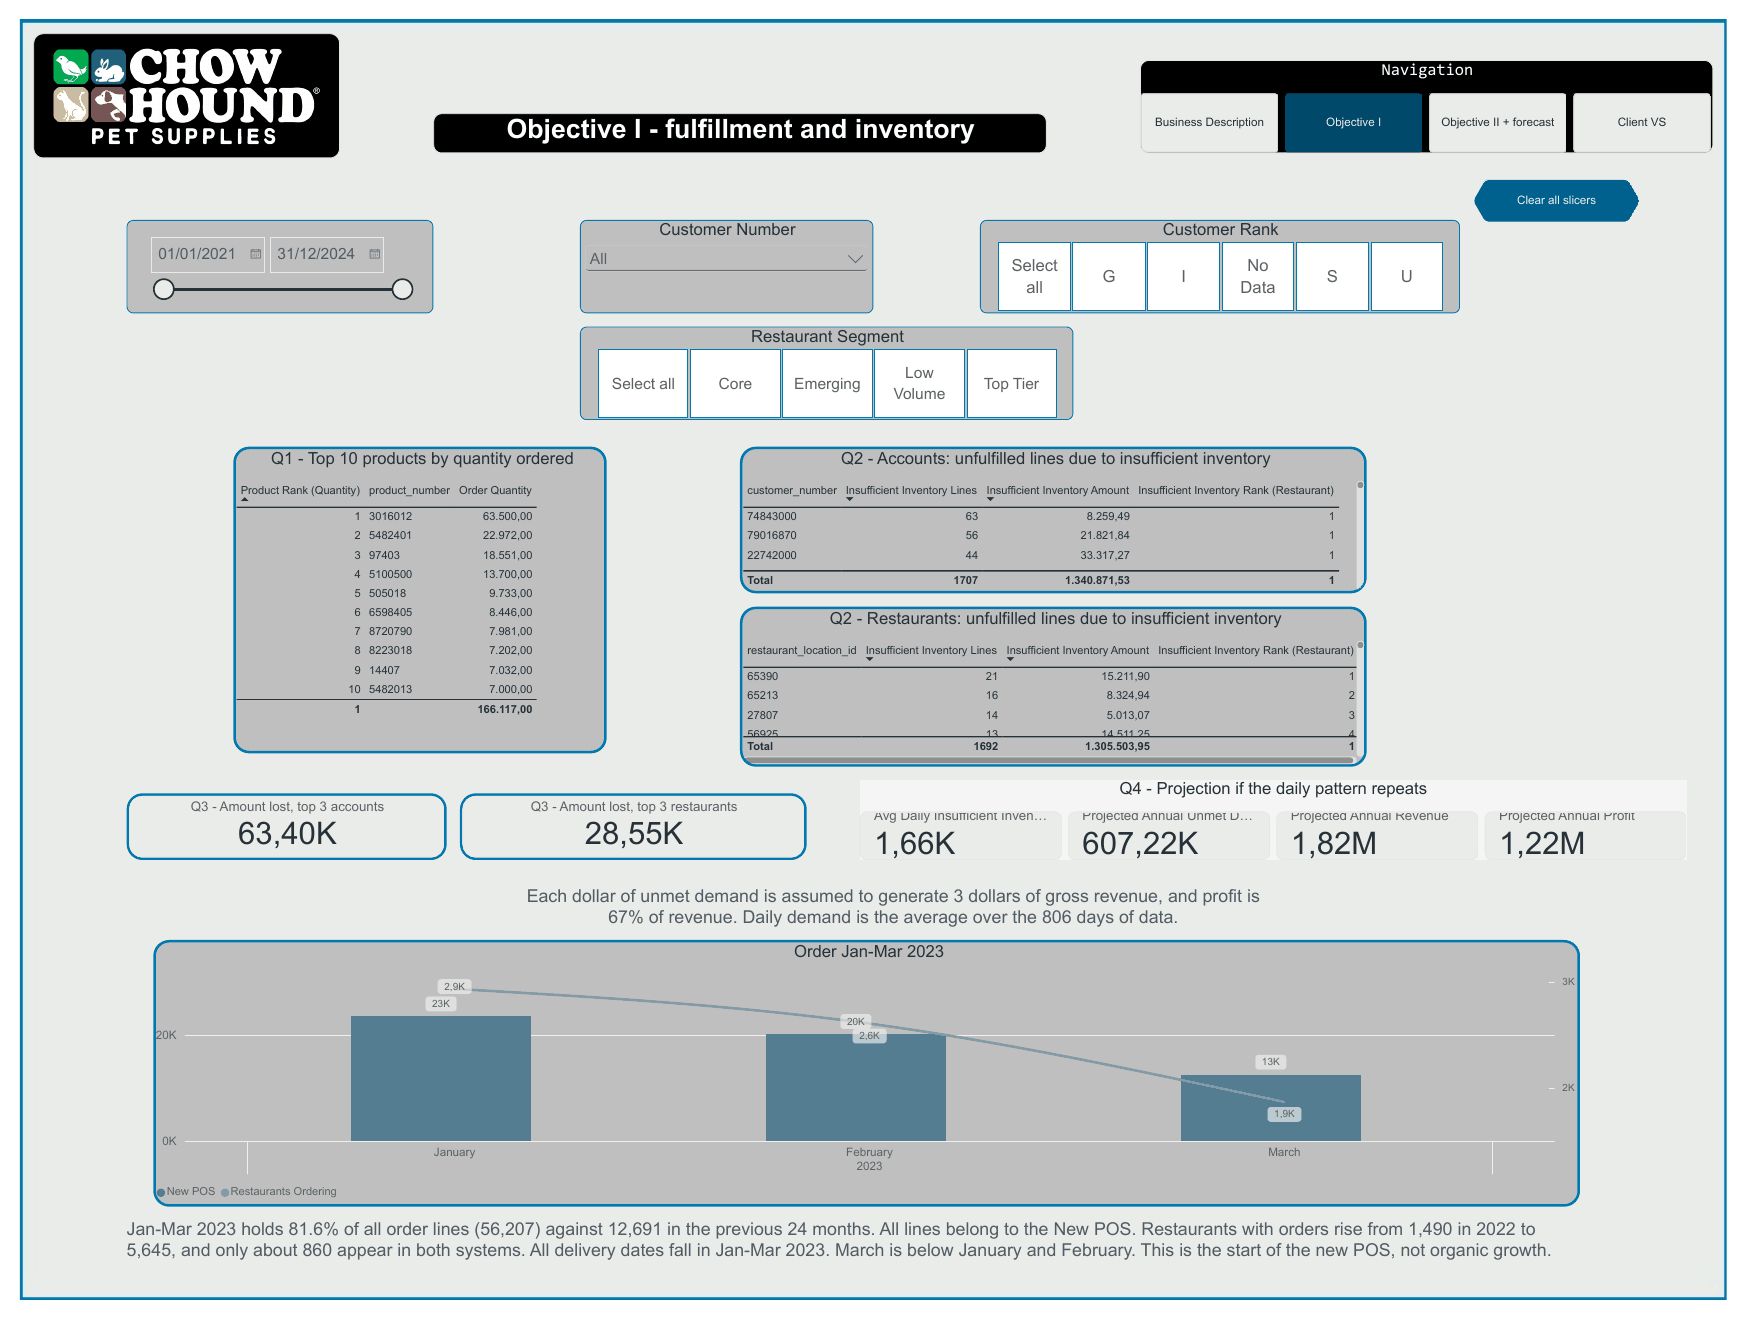

This screenshot's page, from the dashboard's own definition file:
{"tool":"powerbi","page":{"name":"Objective I","canvas":[2048,1536],"ordinal":1},"visuals":[{"type":"tableEx","title":"Q1 - Top 10 products by quantity ordered","fields":{"Values":["Metrics.Product Rank (Quantity)","dim_product.product_number","Metrics.Order Quantity"]},"box":[256,512,448,368],"z":0},{"type":"cardVisual","fields":{"Data":["Metrics.Top 3 Accounts Insufficient Inventory Amount"]},"box":[128,928,384,80],"z":1000},{"type":"cardVisual","fields":{"Data":["Metrics.Top 3 Restaurants Insufficient Inventory Amount"]},"box":[528,928,416,80],"z":2000},{"type":"lineStackedColumnComboChart","title":"Order Jan-Mar 2023","fields":{"Category":["dim_date.year","dim_date.month_name"],"Series":["fact_order_lines.source_system"],"Y":["Metrics.Order Lines"],"Y2":["Metrics.Restaurants Ordering"]},"box":[160,1104,1712,320],"z":3000},{"type":"pageNavigator","title":"Navigation","box":[1344,48,688,112],"z":4000},{"type":"image","box":[16,16,368,150],"z":5000},{"type":"slicer","title":"Customer Number","fields":{"Values":["dim_restaurant.customer_number"]},"box":[672,240,352,112],"z":6000},{"type":"slicer","title":"Restaurant Segment","fields":{"Values":["dim_restaurant.restaurant_segment"]},"box":[672,368,592,112],"z":7000},{"type":"textbox","title":"Objective I - fulfillment and inventory","box":[496,112,736,48],"z":8000},{"type":"actionButton","box":[1744,192,200,50],"z":9000},{"type":"slicer","fields":{"Values":["dim_date.date"]},"box":[128,240,368,112],"z":10000},{"type":"slicer","title":"Customer Rank","fields":{"Values":["dim_restaurant.customer_rank"]},"box":[1152,240,576,112],"z":11000},{"type":"tableEx","title":"Q2 - Accounts: unfulfilled lines due to insufficient inventory","fields":{"Values":["dim_restaurant.customer_number","Metrics.Insufficient Inventory Lines","Metrics.Insufficient Inventory Amount","Metrics.Insufficient Inventory Rank (Restaurant)"]},"box":[864,512,752,176],"z":12000},{"type":"tableEx","title":"Q2 - Restaurants: unfulfilled lines due to insufficient inventory","fields":{"Values":["dim_restaurant.restaurant_location_id","Metrics.Insufficient Inventory Lines","Metrics.Insufficient Inventory Amount","Metrics.Insufficient Inventory Rank (Restaurant)"]},"box":[864,704,752,192],"z":13000},{"type":"cardVisual","title":"Q4 - Projection if the daily pattern repeats","fields":{"Data":["Metrics.Avg Daily Insufficient Inventory Amount","Metrics.Projected Annual Unmet Demand","Metrics.Projected Annual Revenue","Metrics.Projected Annual Profit"]},"box":[1008,912,992,96],"z":14000},{"type":"textbox","box":[592,1040,912,64],"z":15000},{"type":"textbox","box":[128,1440,1744,80],"z":16000}]}

Visuals, with their boxes in screenshot pixels (x1, y1, x2, y2), scaled from the page's 2048x1536 canvas onto the 1747x1320 screenshot:
"Q1 - Top 10 products by quantity ordered" tableEx: 218:440:601:756
cardVisual - Metrics.Top 3 Accounts Insufficient Inventory Amount: 109:798:437:866
cardVisual - Metrics.Top 3 Restaurants Insufficient Inventory Amount: 450:798:805:866
"Order Jan-Mar 2023" lineStackedColumnComboChart: 136:949:1597:1224
"Navigation" pageNavigator: 1146:41:1733:138
image: 14:14:328:143
"Customer Number" slicer: 573:206:874:302
"Restaurant Segment" slicer: 573:316:1078:412
"Objective I - fulfillment and inventory" textbox: 423:96:1051:138
actionButton: 1488:165:1658:208
slicer - dim_date.date: 109:206:423:302
"Customer Rank" slicer: 983:206:1474:302
"Q2 - Accounts: unfulfilled lines due to insufficient inventory" tableEx: 737:440:1378:591
"Q2 - Restaurants: unfulfilled lines due to insufficient inventory" tableEx: 737:605:1378:770
"Q4 - Projection if the daily pattern repeats" cardVisual: 860:784:1706:866
textbox: 505:894:1283:949
textbox: 109:1238:1597:1306
